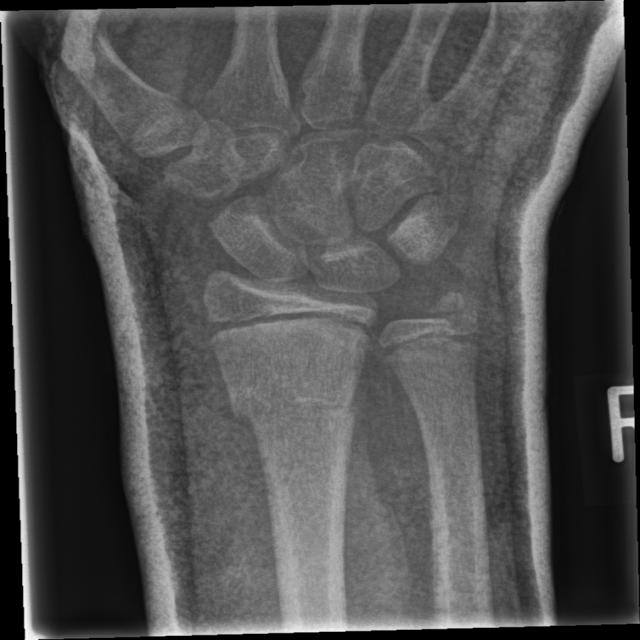radius fracture: (210, 364, 372, 511)
